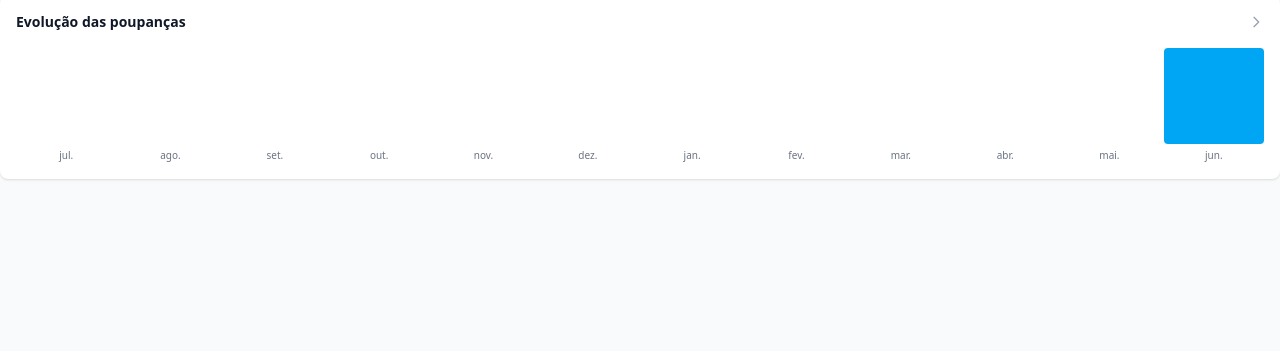
SavingsTrend — month readout › lists a zero-balance pot muted rather than omitting it
Note: When I tap the June column
Click the 12th button with test id "trend-column": (1214, 96) [1164,48,1264,144]
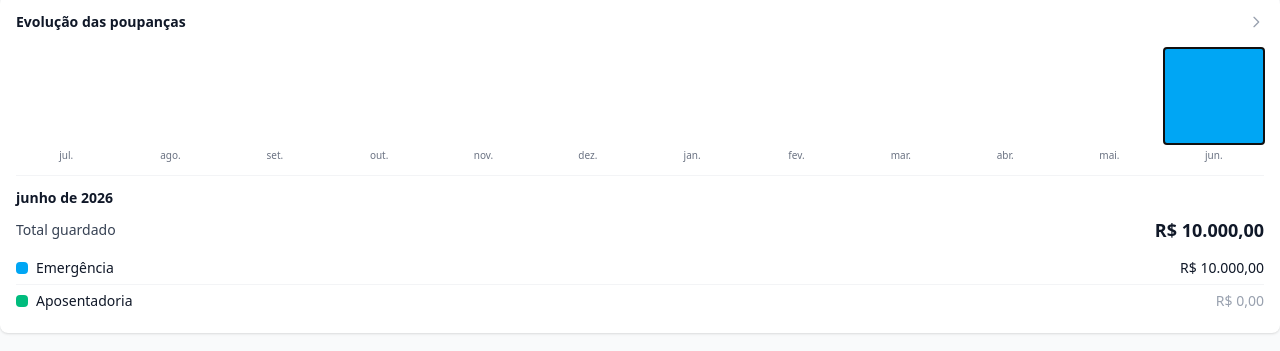
Now the number of list items with test id "readout-row" is 2, box [16,252,1264,285]; [16,291,1264,310]
Now the text with test id "readout-value" reads "R$ 0,00", box [1216,291,1264,310]
